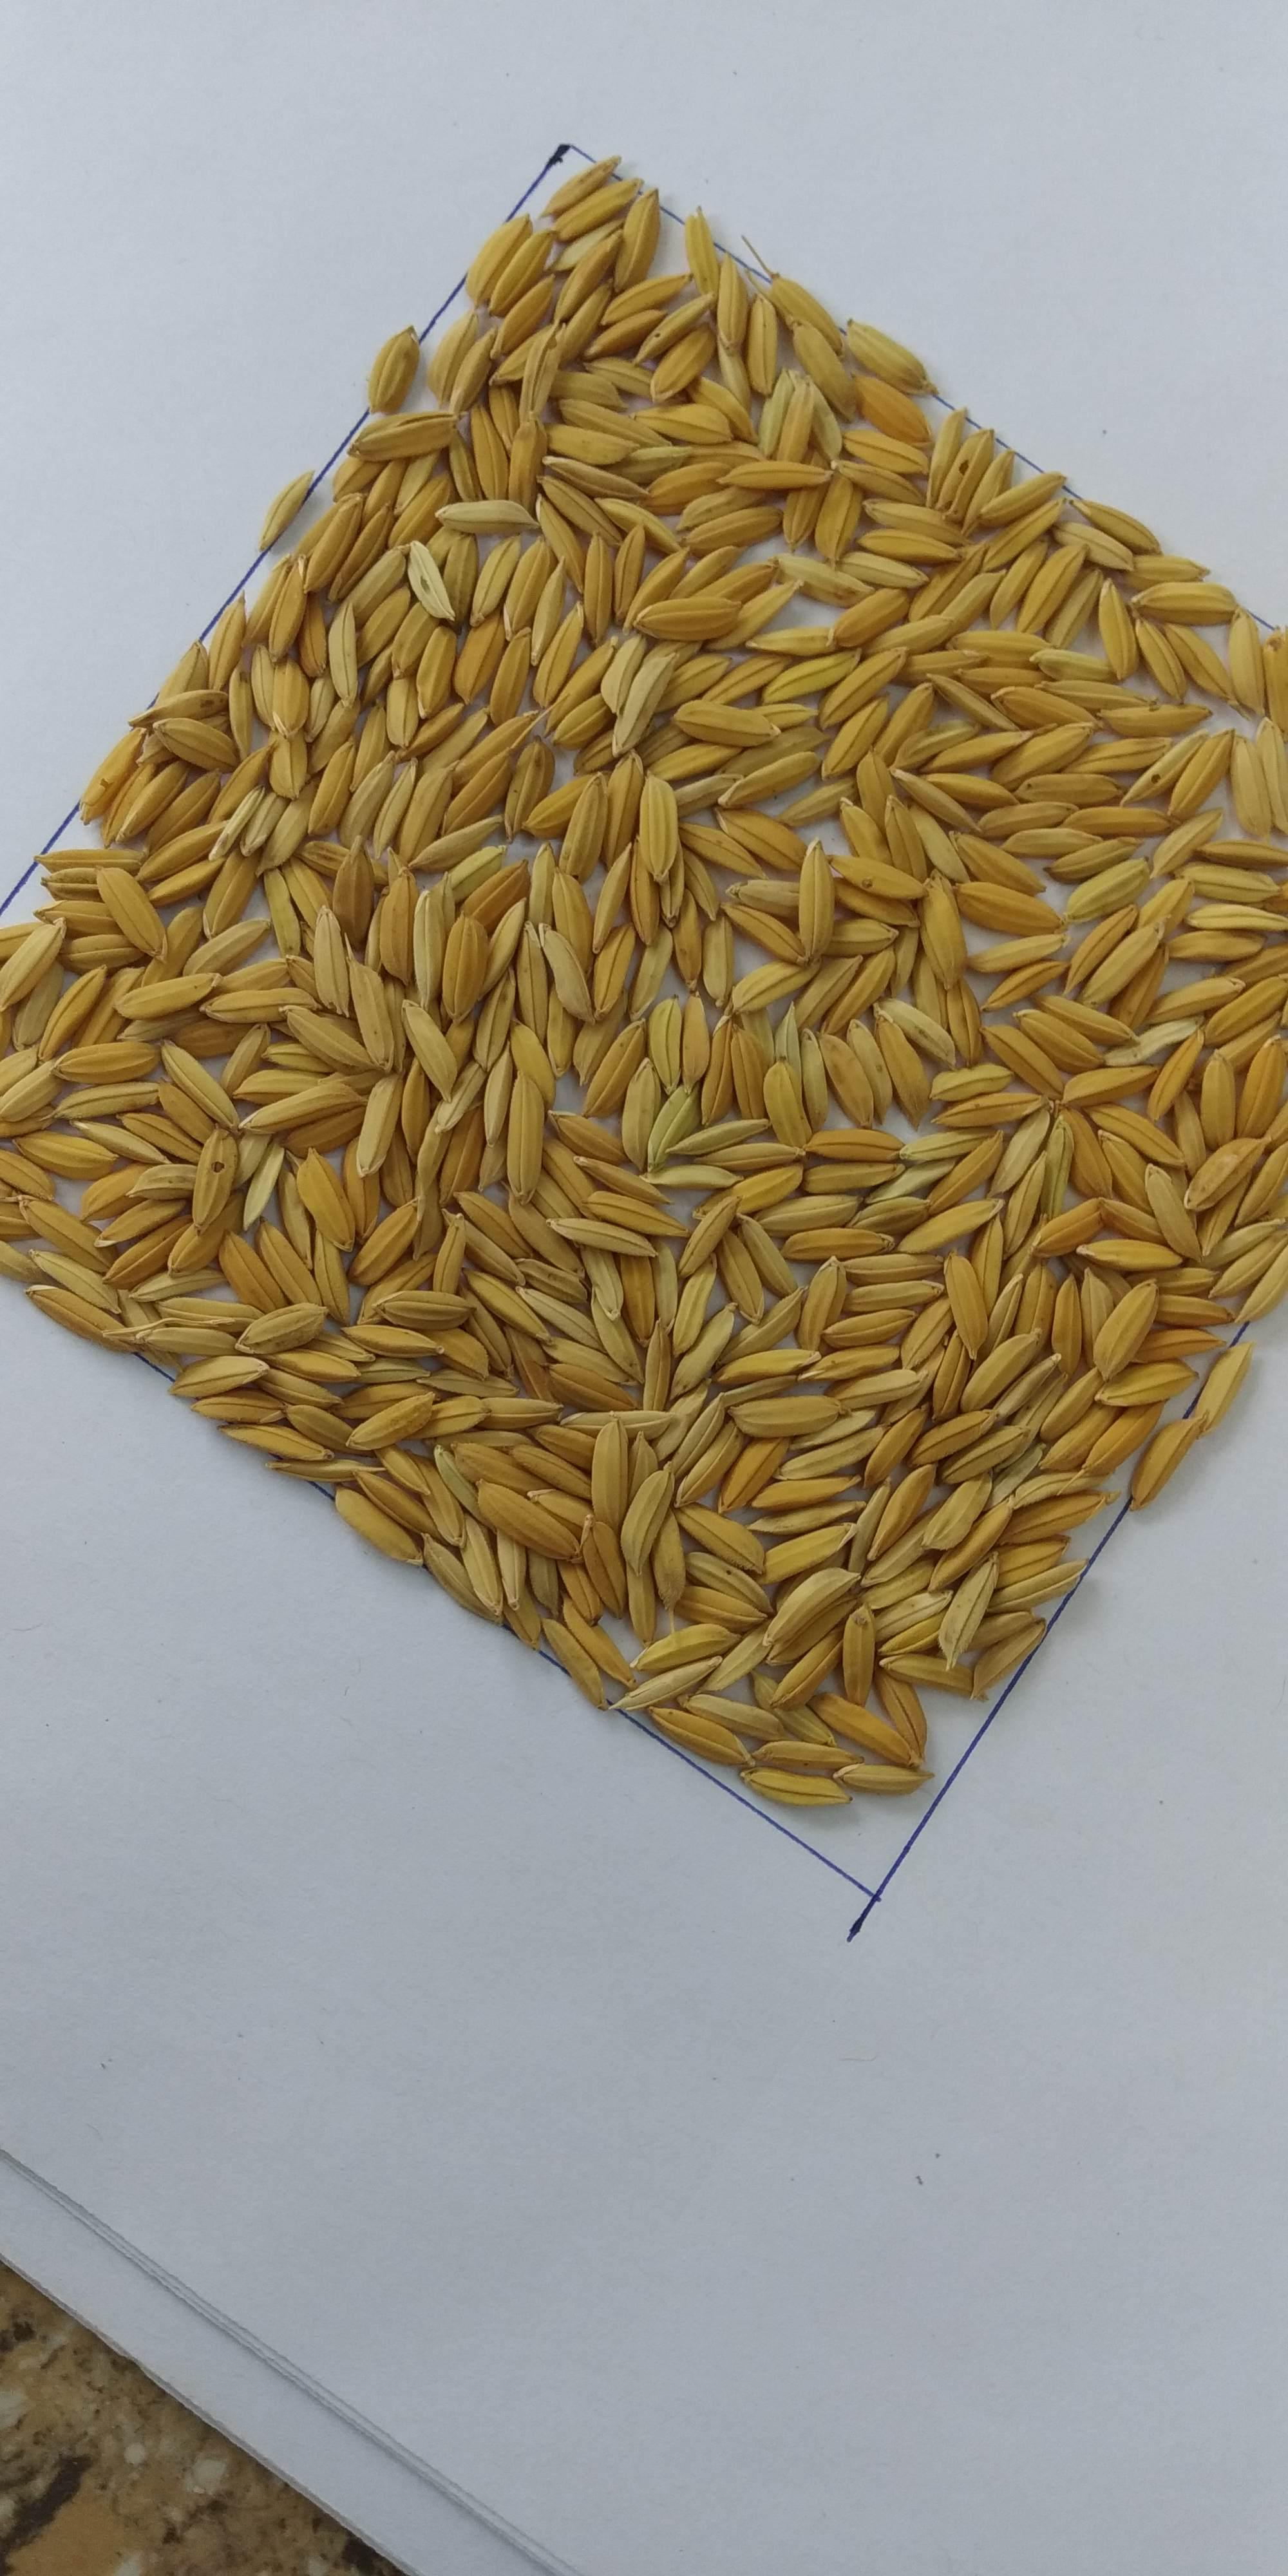pure: (240, 552, 1230, 1380)
